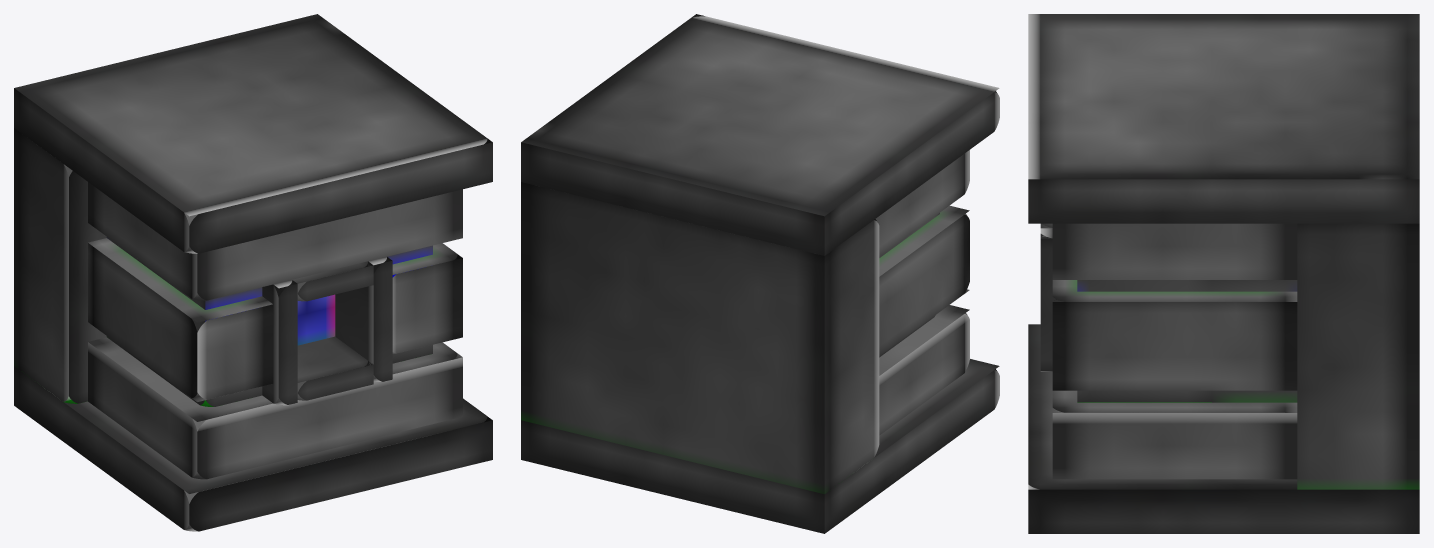
File: electric_laser.obj
The picture shows the model from 3 angles, left to right: view 1: azimuth 30°, elevation 25°; view 2: azimuth 150°, elevation 25°; view 3: azimuth 270°, elevation 25°; orthographic projection. The views are drawn at different scales.
Parts seen in each view (by area): view 1: model; view 2: model; view 3: model.
Part boxes in pixels (x1,y1,x2,y2): model: (14, 14, 492, 531); model: (521, 14, 999, 533); model: (1028, 14, 1419, 533).
Size of the model in its own units: 1 by 1 by 1.
